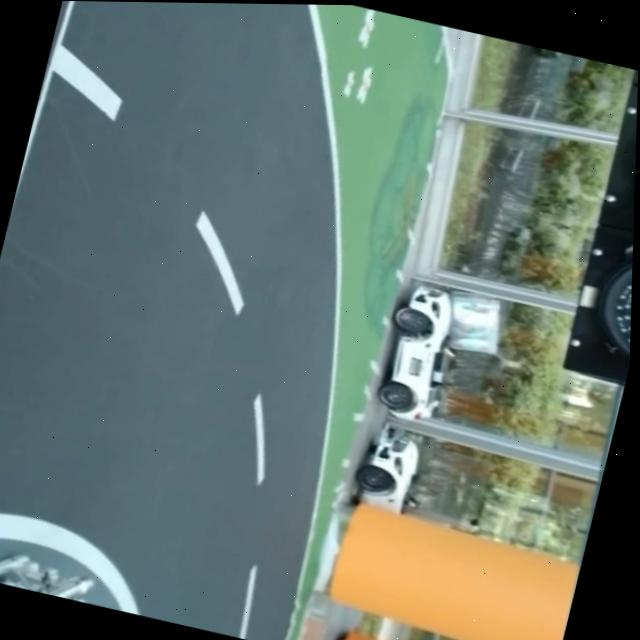traffic-light: (544, 65, 638, 394)
